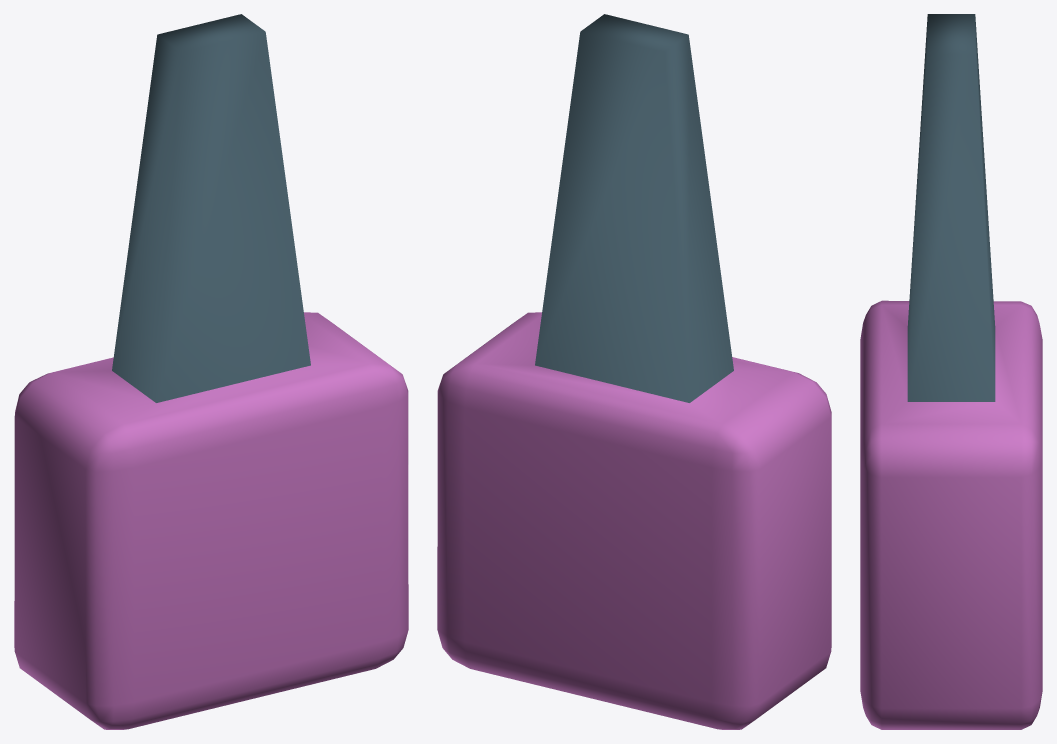
Rendered from Stack.fbx.
3 views of the same model, side by side, from view 1: azimuth 30°, elevation 25°; view 2: azimuth 150°, elevation 25°; view 3: azimuth 270°, elevation 25° (orthographic).
Visible parts, largest first — view 1: Stack; view 2: Stack; view 3: Stack.
Boxes of the visible parts, bbox=[...] form: Stack: bbox=[14, 14, 408, 729]; Stack: bbox=[437, 14, 831, 729]; Stack: bbox=[860, 14, 1042, 729].
Size of the model in its own units: 0.1955 by 0.3709 by 0.0971.
